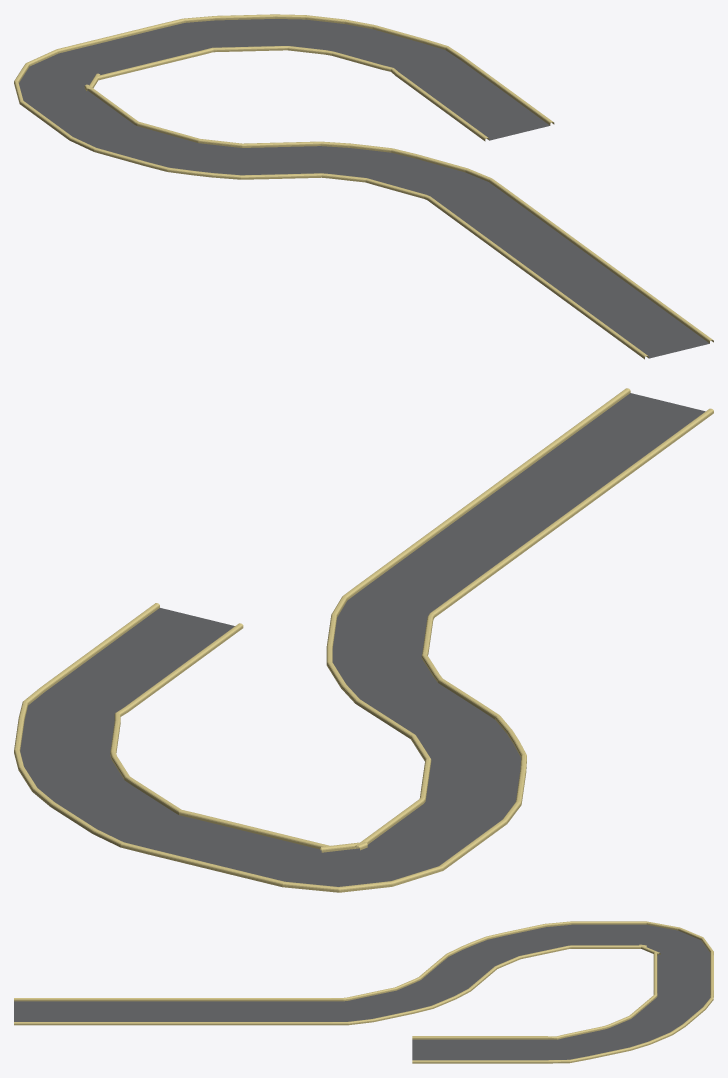
File: road.glb
3 views of the same model, one above another, from view 1: azimuth 30°, elevation 25°; view 2: azimuth 150°, elevation 25°; view 3: azimuth 270°, elevation 25° (orthographic). The views are drawn at different scales.
Visible parts, largest first — view 1: Plane; view 2: Plane; view 3: Plane.
Part boxes in pixels (x1,y1,x2,y2): Plane: (14, 14, 713, 359); Plane: (14, 388, 713, 892); Plane: (14, 921, 713, 1063).
Bounding box in the file's own units: 11 × 0.085 × 23.2.
